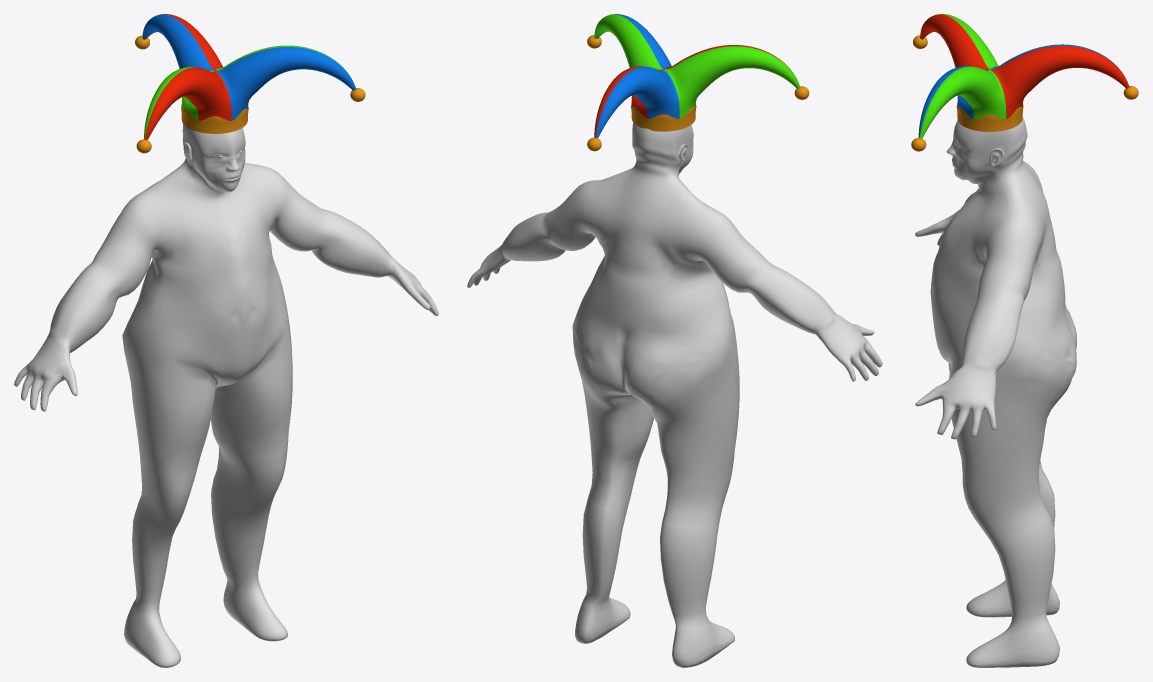
File: FatJester.fbx
The picture shows the model from 3 angles, left to right: view 1: azimuth 30°, elevation 25°; view 2: azimuth 150°, elevation 25°; view 3: azimuth 270°, elevation 25°; orthographic projection. The views are drawn at different scales.
Parts seen in each view (by area): view 1: Circle, NurbsPath.003; view 2: Circle, NurbsPath.003; view 3: Circle, NurbsPath.003.
Boxes of the visible parts, x1,y1,x2,y2 form: Circle: (14,124,438,667); NurbsPath.003: (135,14,365,153); Circle: (467,122,882,667); NurbsPath.003: (587,14,809,151); Circle: (915,117,1076,667); NurbsPath.003: (911,14,1138,151).
Size of the model in its own units: 1122 by 1593 by 555.
